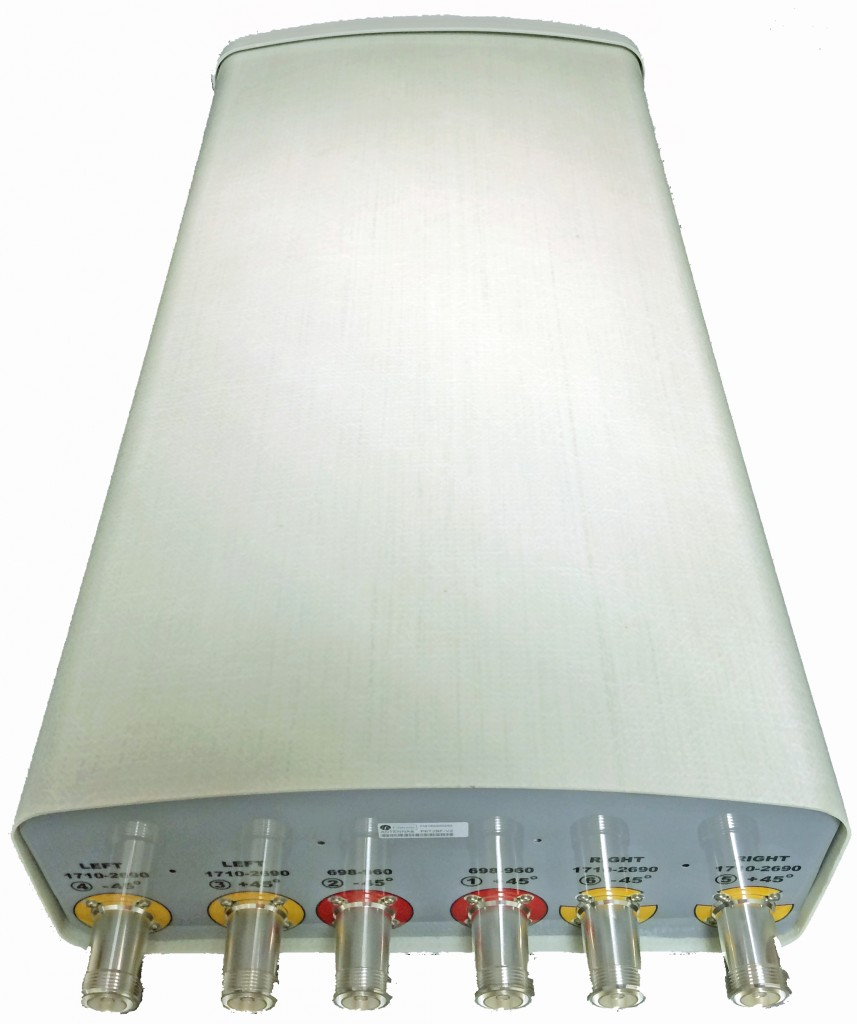sa: (23, 9, 857, 990)
